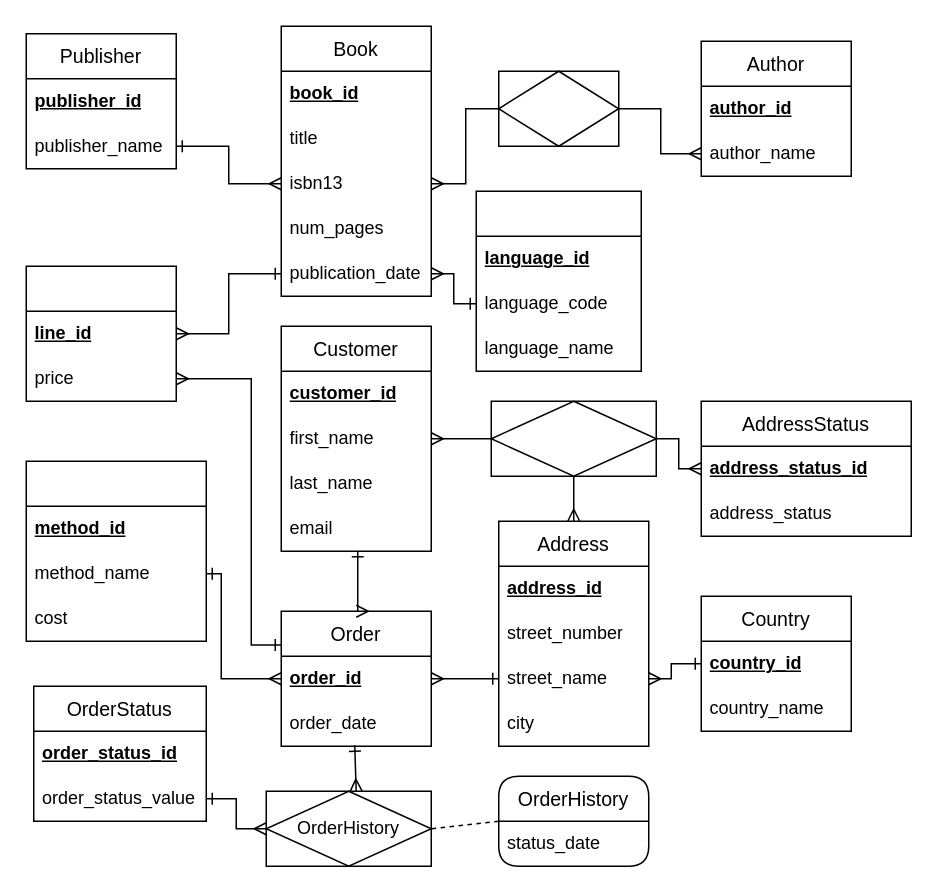
Some shapes in this 938 by 893 pixel diagram are drawn without their labels. Here are the shapes that lost their labels. From the top down, the box of each, then its label:
(497, 70, 619, 146): BookAuthor
(475, 190, 641, 371): BookLanguage
(25, 265, 176, 401): OrderLine
(490, 400, 656, 476): CustomerAddress
(25, 460, 206, 641): ShippingMethod
